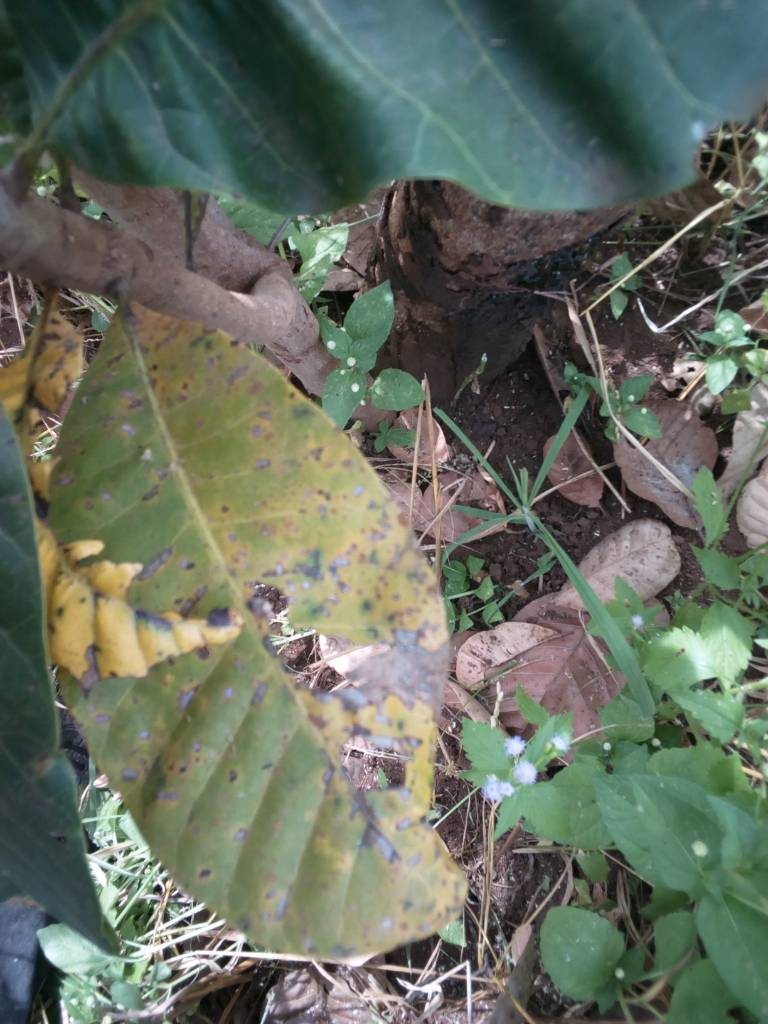Anthracnose: (46, 302, 466, 967)
